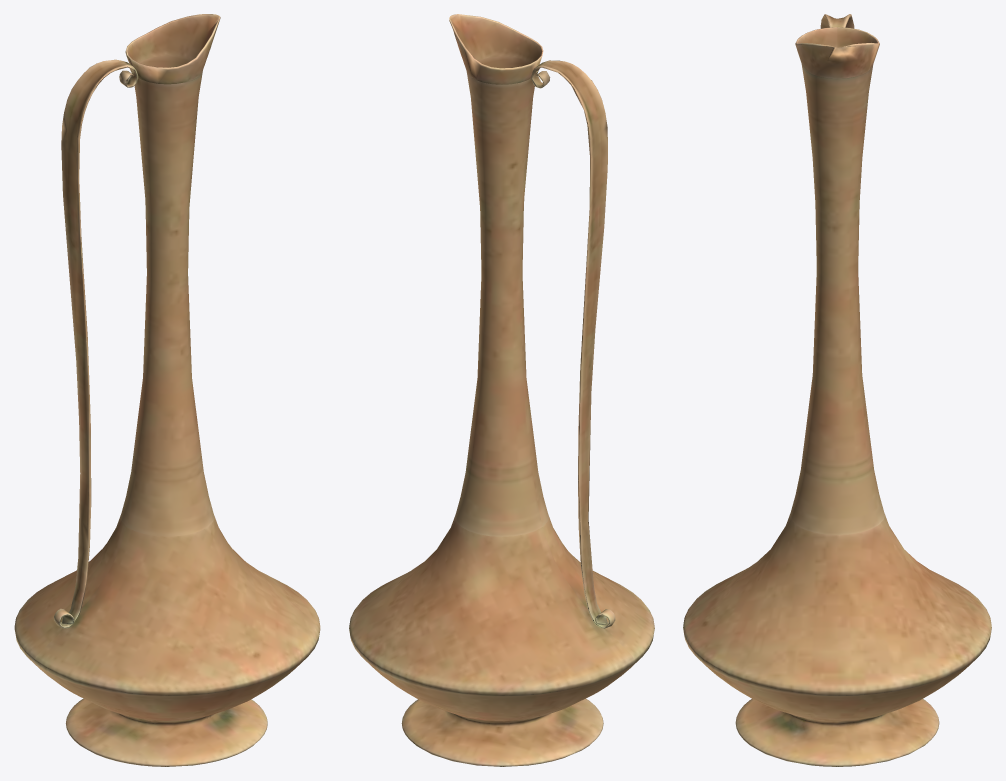
Rendered from ph_brass_vase_02.glb.
The picture shows the model from 3 angles, left to right: view 1: azimuth 30°, elevation 25°; view 2: azimuth 150°, elevation 25°; view 3: azimuth 270°, elevation 25°; orthographic projection.
Parts seen in each view (by area): view 1: brass_vase_02; view 2: brass_vase_02; view 3: brass_vase_02.
Boxes of the visible parts, bbox=[...] form: brass_vase_02: bbox=[14, 14, 320, 766]; brass_vase_02: bbox=[349, 14, 654, 766]; brass_vase_02: bbox=[683, 14, 991, 766].
Size of the model in its own units: 0.2103 by 0.5286 by 0.2103.
Materials: 1 (1 with a texture image).
